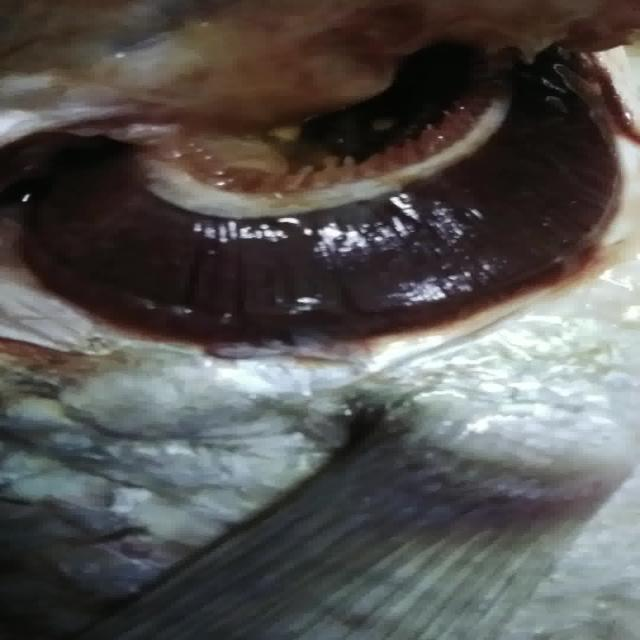Non-Fresh: (32, 25, 628, 371)
